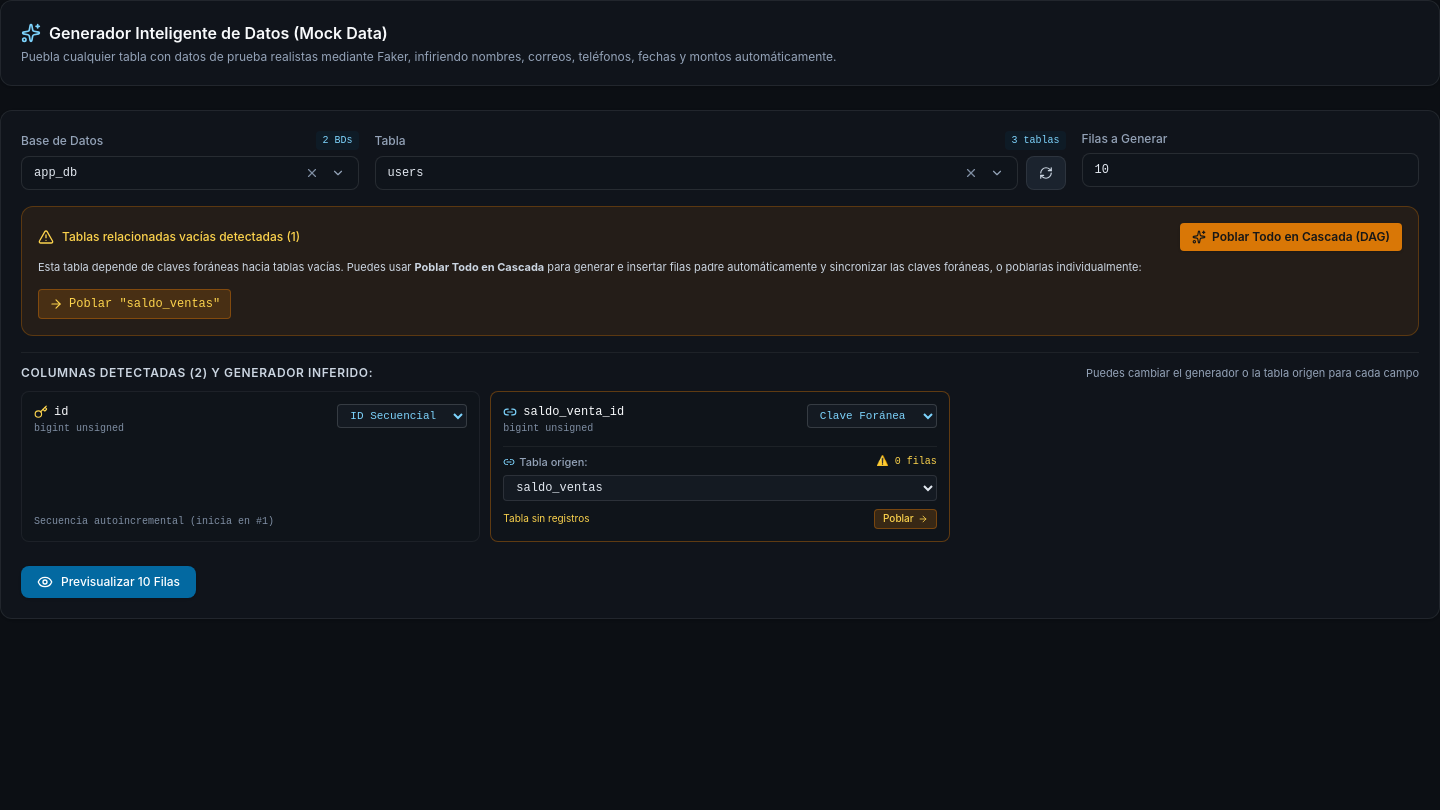
Test: MockDataTab › unwinds a nested empty-FK chain one level at a time (users -> saldo_ventas -> ventas -> back -> back)
Click the button "Poblar \"saldo_ventas\"".
click(135, 304)  # box [38,289,231,319]
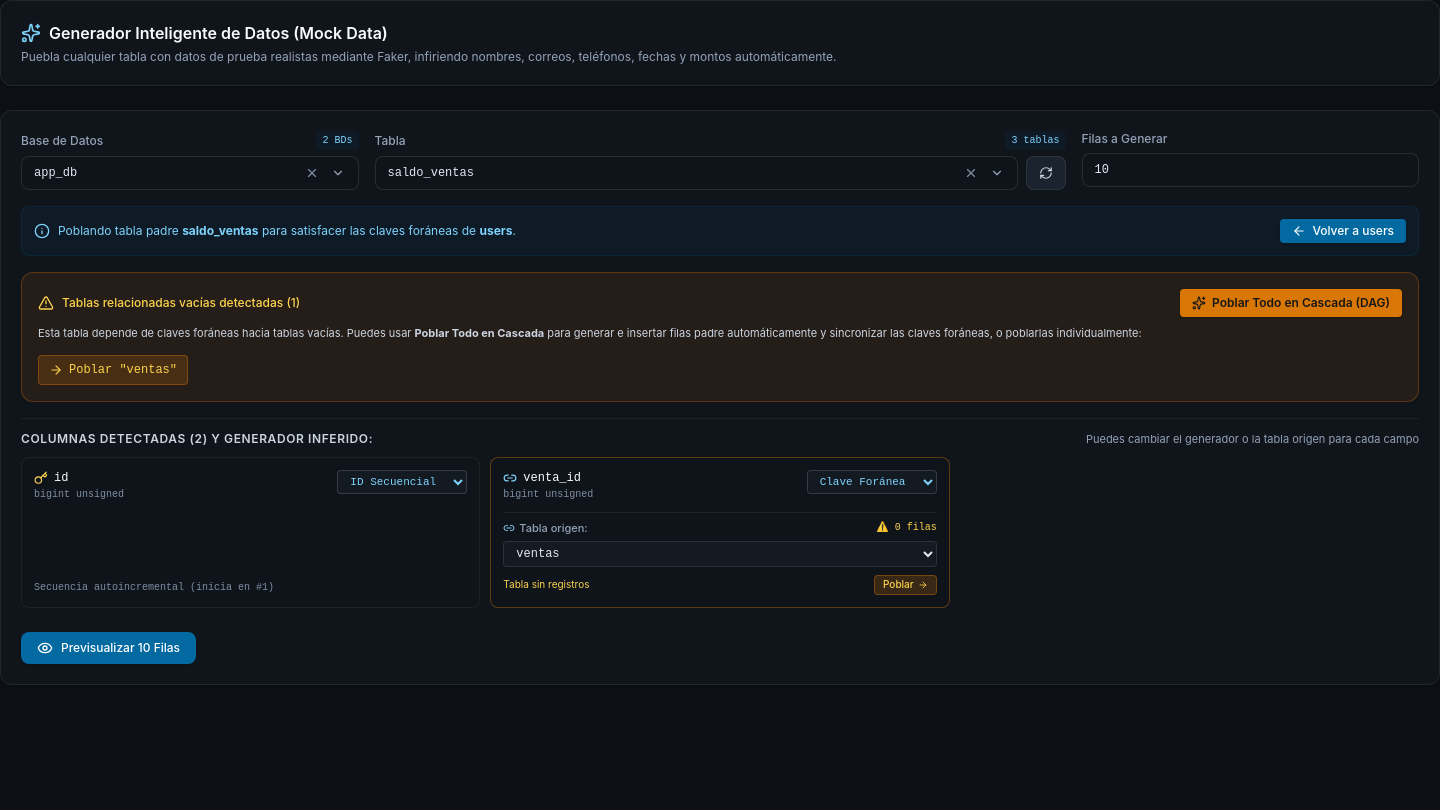
Expected: the text "Volver a users" is shown, [1312,223,1394,239]
Click the button "Poblar \"ventas\"".
click(113, 370)  # box [38,355,188,385]
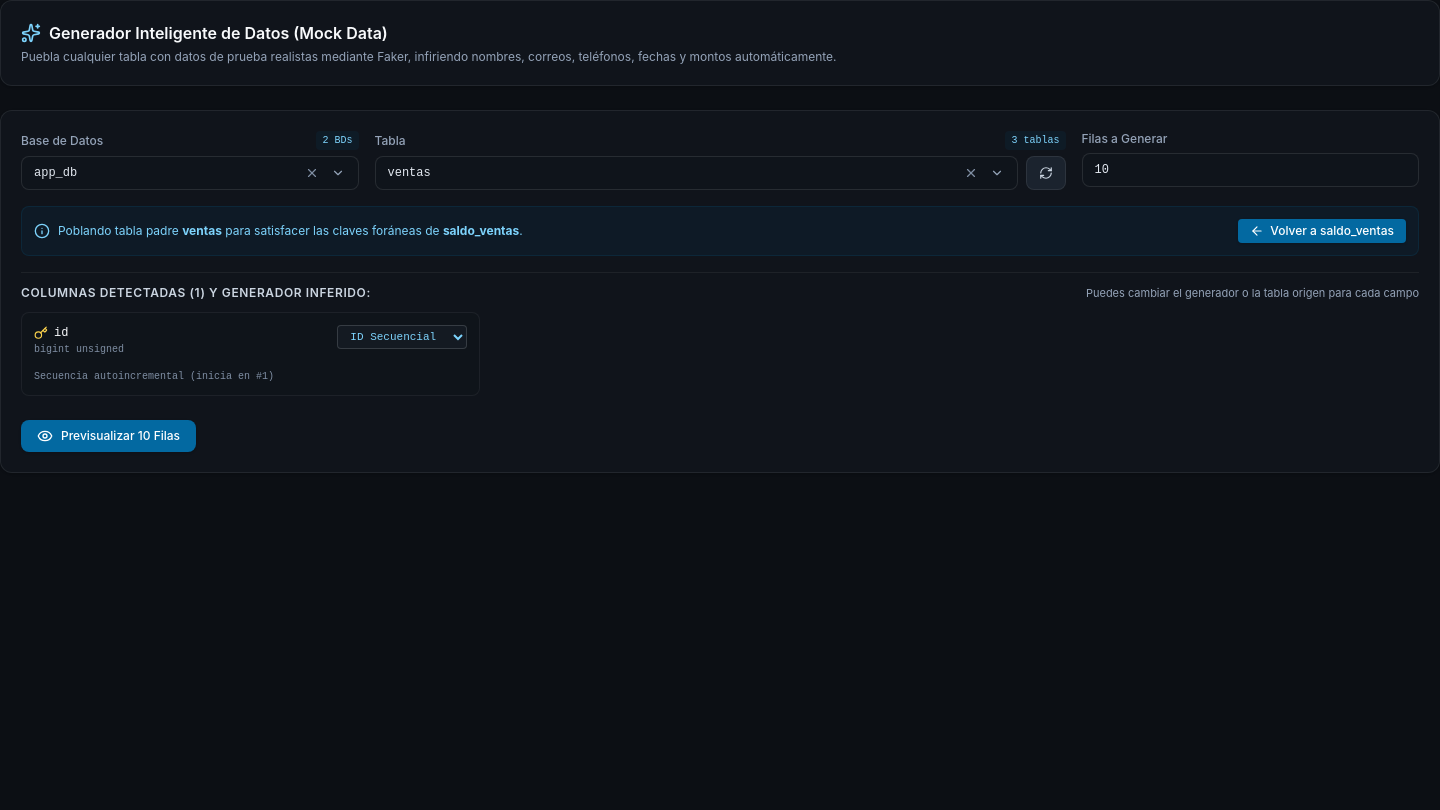
Expected: the text "Volver a saldo_ventas" is shown, [1270,223,1394,239]
Unwind level 2: back to saldo_ventas (not straight to users)
Click the button "Volver a saldo_ventas".
click(1322, 231)  # box [1238,219,1406,243]
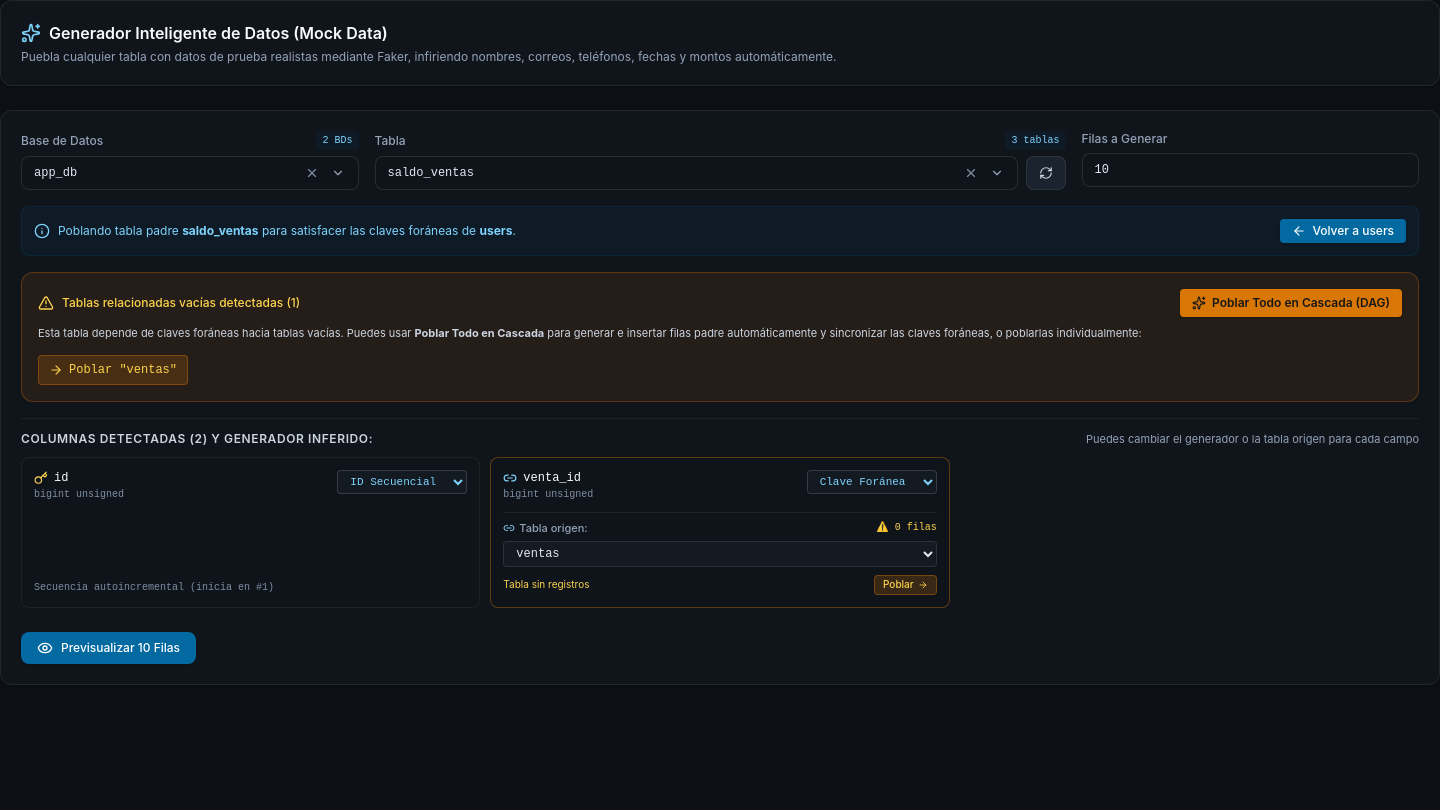
Expected: the text "Volver a users" is shown, [1312,223,1394,239]
Expected: the text "Volver a saldo_ventas" is gone
Click the button "Volver a users".
click(1343, 231)  # box [1280,219,1406,243]
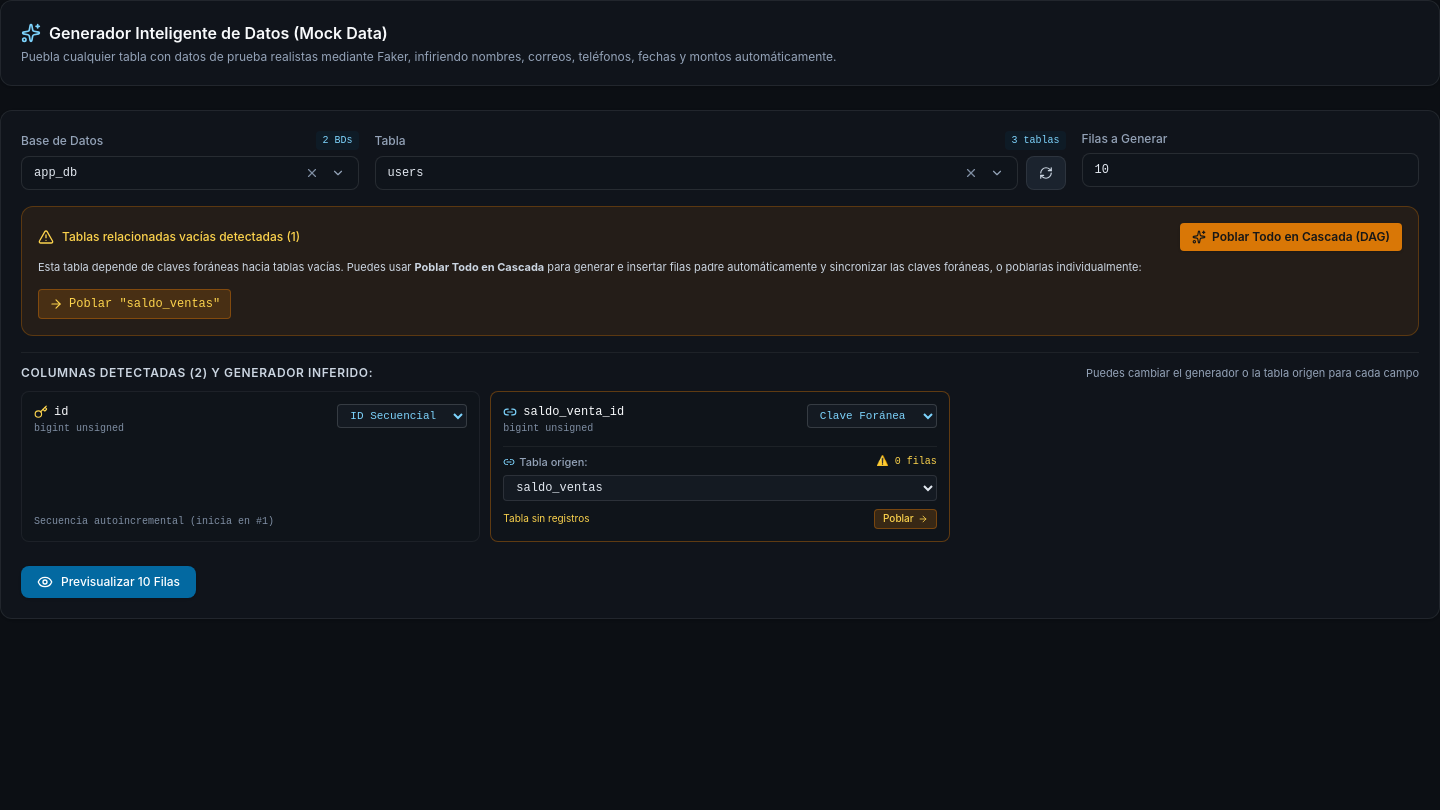
Expected: the text "Volver a" is gone
